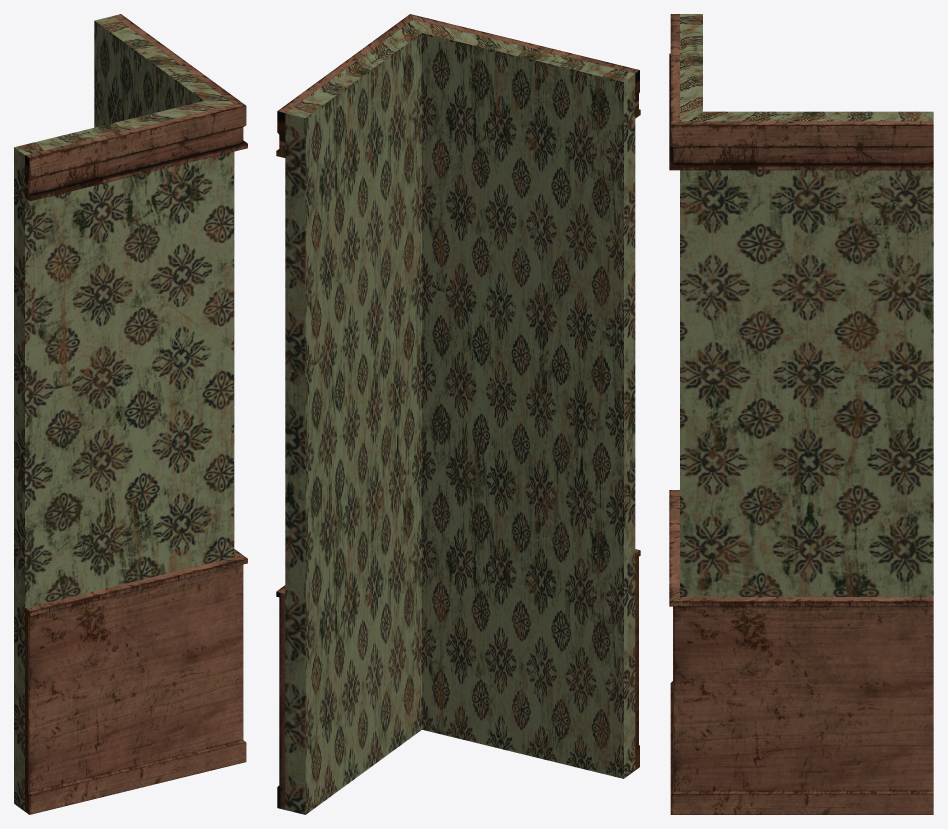
Rendered from Wall_CornerOut_1m_A.fbx.
3 renders of one model, left to right at view 1: azimuth 30°, elevation 25°; view 2: azimuth 150°, elevation 25°; view 3: azimuth 270°, elevation 25°, orthographic. The views are drawn at different scales.
Visible parts, largest first — view 1: Wall_CornerOut_1m_A; view 2: Wall_CornerOut_1m_A; view 3: Wall_CornerOut_1m_A.
Part boxes in pixels (x1,y1,x2,y2): Wall_CornerOut_1m_A: [14, 14, 247, 814]; Wall_CornerOut_1m_A: [276, 14, 640, 814]; Wall_CornerOut_1m_A: [669, 14, 933, 814].
Bounding box in the file's own units: 1.15 × 1.15 × 3.3.
2 materials, 2 textured.
